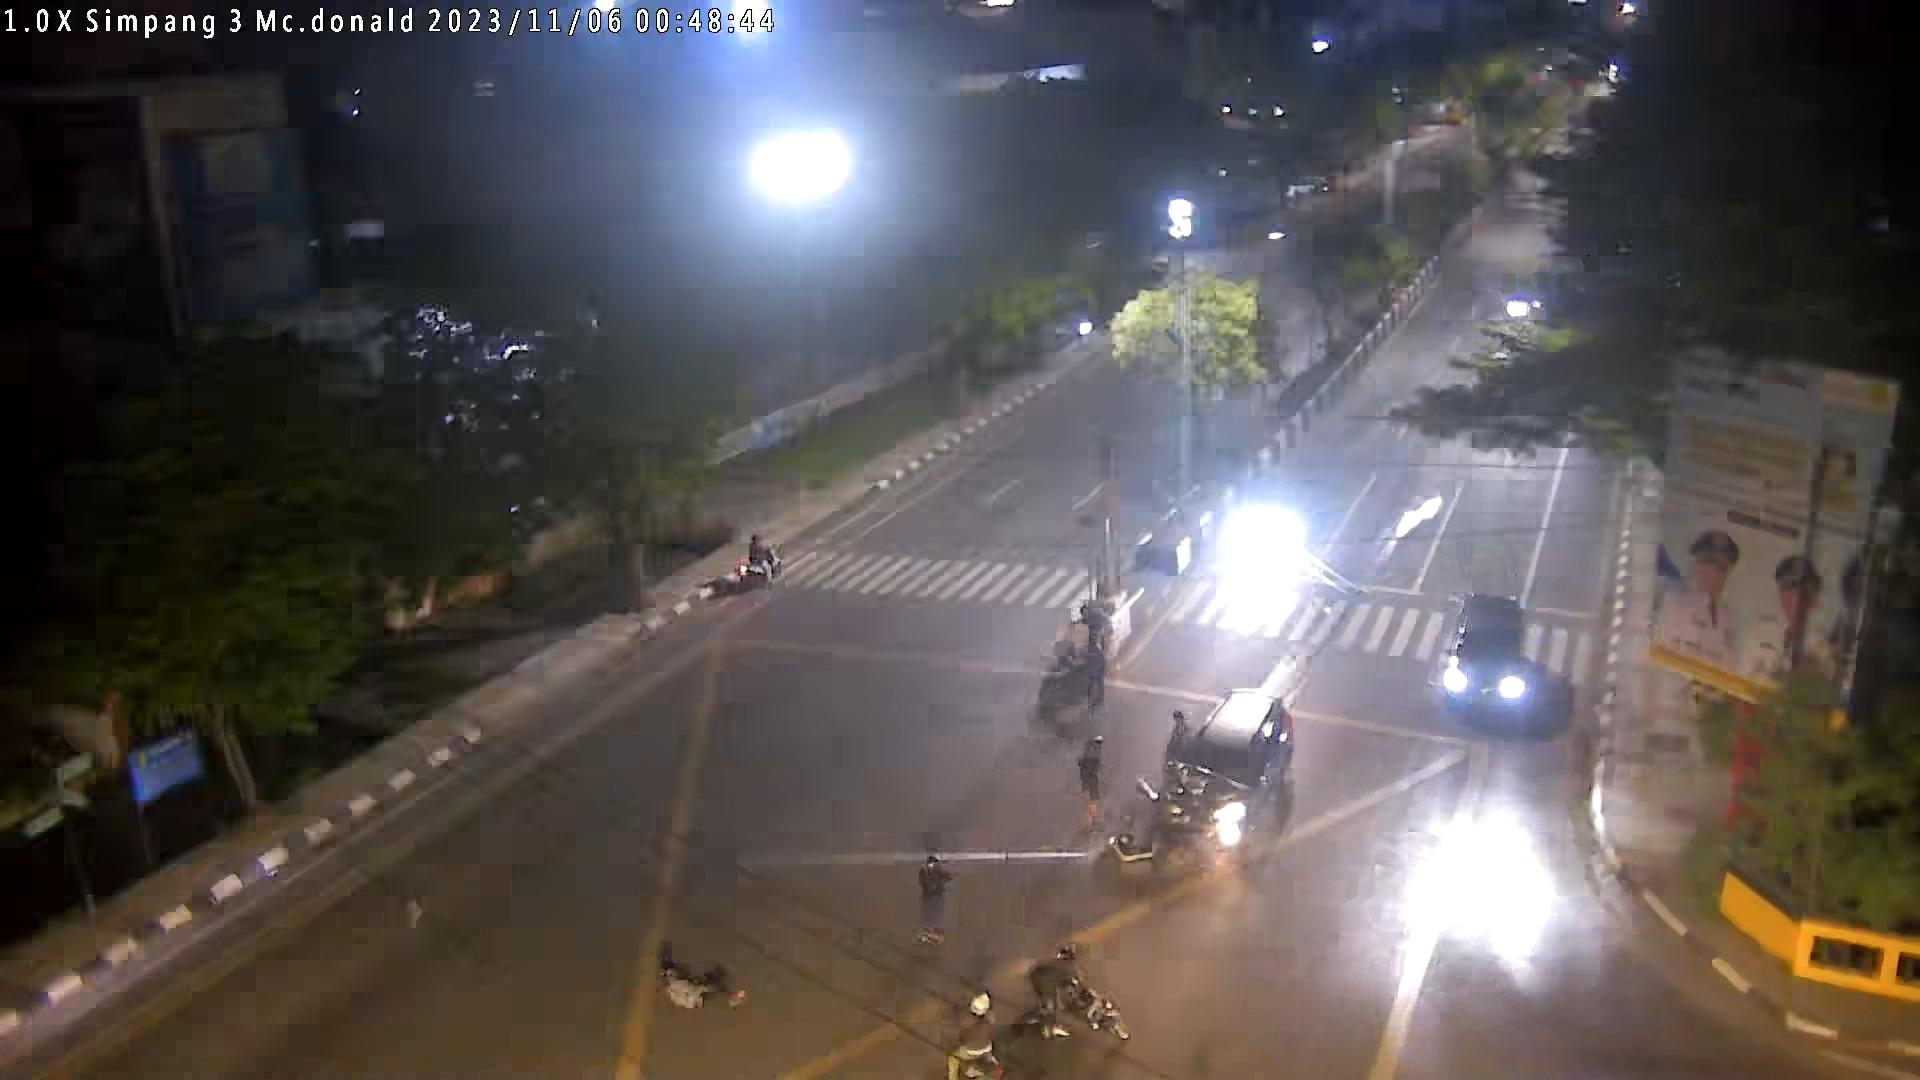accident: (655, 960, 748, 1011)
